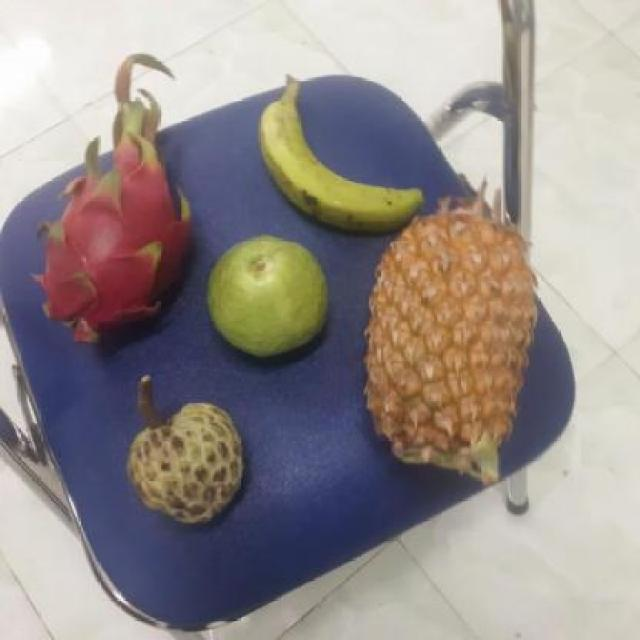banana: (258, 78, 432, 237)
dragon fruit: (43, 149, 202, 345)
guava: (208, 237, 337, 357)
pineapple: (362, 212, 552, 473)
sugar apple: (128, 400, 254, 526)
